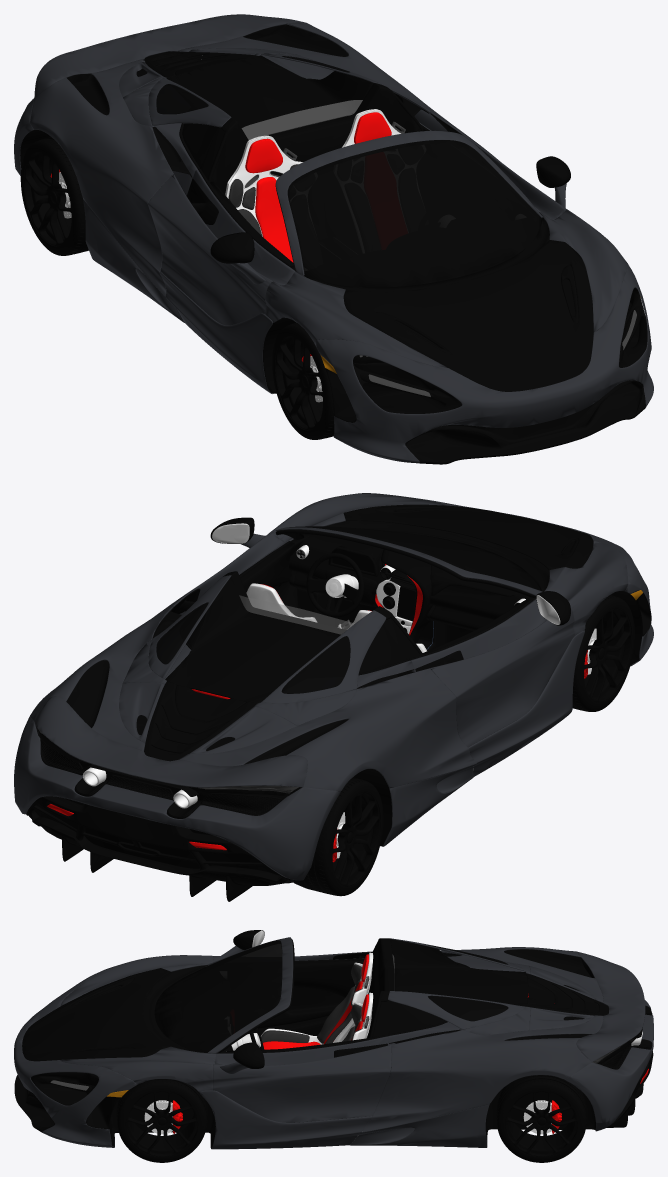
File: mclaren-720s.glb
3 renders of one model, top to bottom at view 1: azimuth 30°, elevation 25°; view 2: azimuth 150°, elevation 25°; view 3: azimuth 270°, elevation 25°, orthographic. The views are drawn at different scales.
Visible parts, largest first — view 1: Object_78, Object_64, Object_21, Object_19, Object_20, Object_61, Object_18, Object_59, Object_25, Object_63, Object_84, Object_27 (+25 smaller); view 2: Object_21, Object_20, Object_23, Object_61, Object_25, Object_56, Object_78, Object_64, Object_18, Object_24, Object_47, Object_26 (+34 smaller); view 3: Object_21, Object_20, Object_78, Object_64, Object_61, Object_18, Object_19, Object_25, Object_58, Object_23, Object_22, Object_74 (+28 smaller).
Part boxes in pixels (left/top/right/bottom): Object_78: left=156, top=56, right=541, bottom=287; Object_64: left=343, top=240, right=593, bottom=391; Object_21: left=30, top=22, right=450, bottom=297; Object_19: left=314, top=264, right=653, bottom=463; Object_20: left=148, top=111, right=567, bottom=393; Object_61: left=166, top=55, right=373, bottom=139; Object_18: left=264, top=209, right=628, bottom=367; Object_59: left=405, top=380, right=645, bottom=464; Object_25: left=34, top=14, right=303, bottom=97; Object_63: left=325, top=287, right=647, bottom=422; Object_84: left=211, top=83, right=420, bottom=194; Object_27: left=275, top=130, right=542, bottom=275; Object_21: left=30, top=606, right=476, bottom=791; Object_20: left=154, top=531, right=584, bottom=776; Object_23: left=14, top=716, right=340, bottom=880; Object_61: left=165, top=576, right=340, bottom=721; Object_25: left=34, top=696, right=307, bottom=787; Object_56: left=26, top=796, right=294, bottom=883; Object_78: left=156, top=526, right=540, bottom=693; Object_64: left=343, top=504, right=593, bottom=570; Object_18: left=271, top=493, right=628, bottom=635; Object_24: left=119, top=639, right=356, bottom=754; Object_47: left=289, top=535, right=540, bottom=630; Object_26: left=148, top=575, right=386, bottom=703; Object_21: left=362, top=947, right=603, bottom=1132; Object_20: left=199, top=951, right=391, bottom=1149; Object_78: left=154, top=940, right=508, bottom=1052; Object_64: left=22, top=968, right=170, bottom=1061; Object_61: left=390, top=939, right=554, bottom=1006; Object_18: left=60, top=955, right=216, bottom=1091; Object_19: left=14, top=971, right=137, bottom=1147; Object_25: left=576, top=951, right=645, bottom=1062; Object_58: left=227, top=960, right=369, bottom=1051; Object_23: left=564, top=1000, right=653, bottom=1131; Object_22: left=350, top=1104, right=489, bottom=1147; Object_74: left=505, top=1091, right=577, bottom=1156.
Size of the model in its own units: 2.19 by 1.16 by 4.54.
